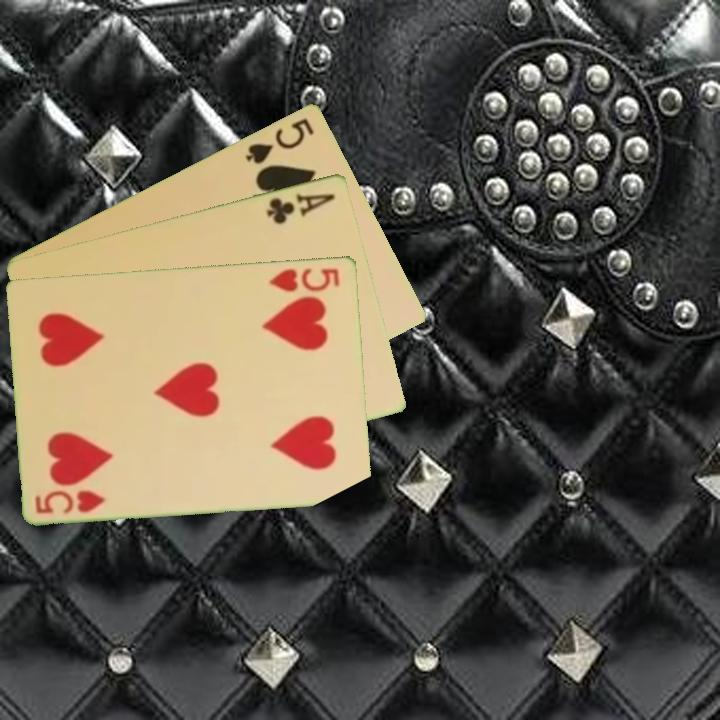5h: (265, 264, 343, 294), (32, 486, 109, 516)
5s: (242, 114, 317, 167)
Ac: (263, 189, 338, 227)
